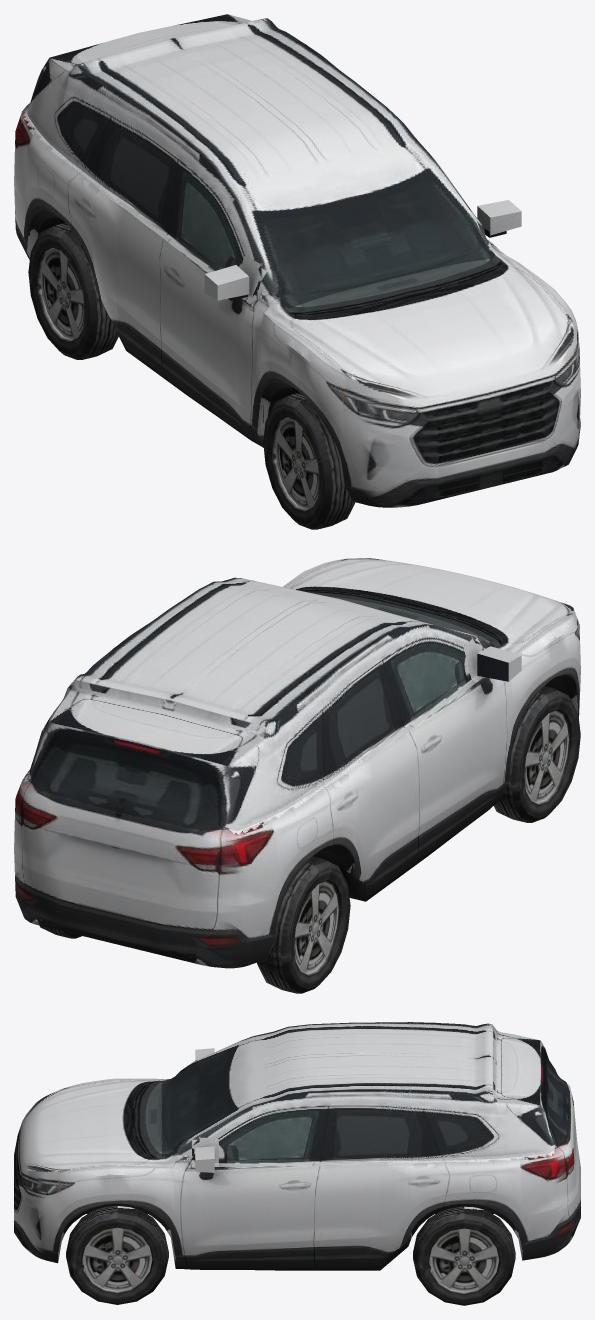
The model's file is suv.glb.
The picture shows the model from 3 angles, top to bottom: view 1: azimuth 30°, elevation 25°; view 2: azimuth 150°, elevation 25°; view 3: azimuth 270°, elevation 25°; orthographic projection. The views are drawn at different scales.
Parts seen in each view (by area): view 1: body, wheel-front-right, wheel-back-right; view 2: body, wheel-back-right, wheel-front-right; view 3: body, wheel-back-left, wheel-front-left.
Part boxes in pixels (x1,y1,x2,y2): body: [14, 14, 580, 507]; wheel-front-right: [263, 392, 355, 529]; wheel-back-right: [28, 223, 118, 359]; body: [14, 558, 580, 968]; wheel-back-right: [257, 856, 350, 993]; wheel-front-right: [494, 686, 580, 822]; body: [14, 1022, 580, 1270]; wheel-back-left: [413, 1206, 515, 1305]; wheel-front-left: [66, 1206, 168, 1304].
Bounding box in the file's own units: 2.14 × 1.86 × 4.63.
1 material, 1 textured.
